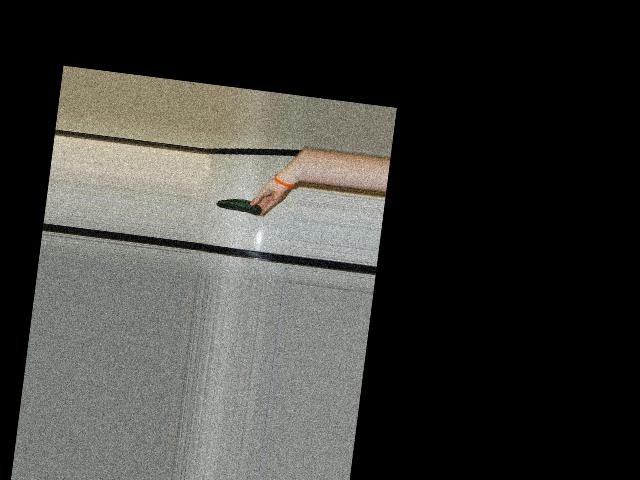cucumber: (215, 197, 263, 216)
